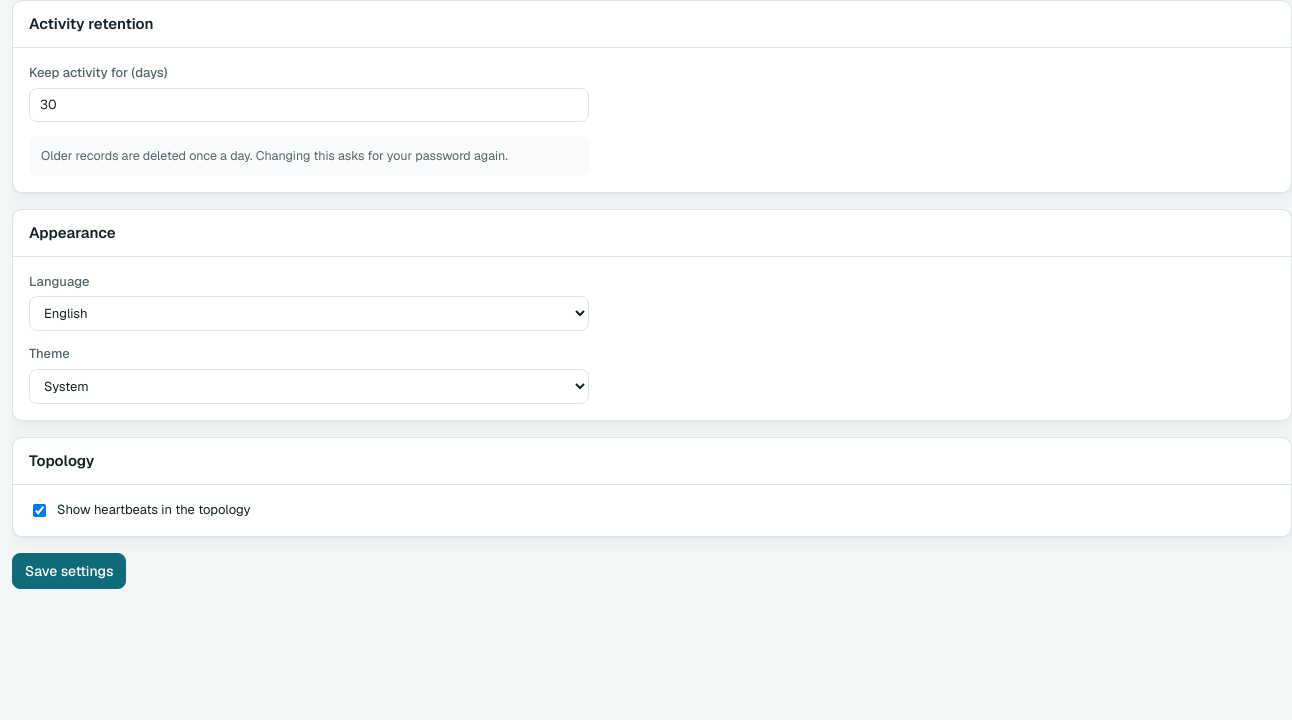
Test case: saves only heartbeatDisplay without sensitive authentication
Click the checkbox labelled "Show heartbeats in the topology". click: (40,510)
box: [33, 504, 46, 517]
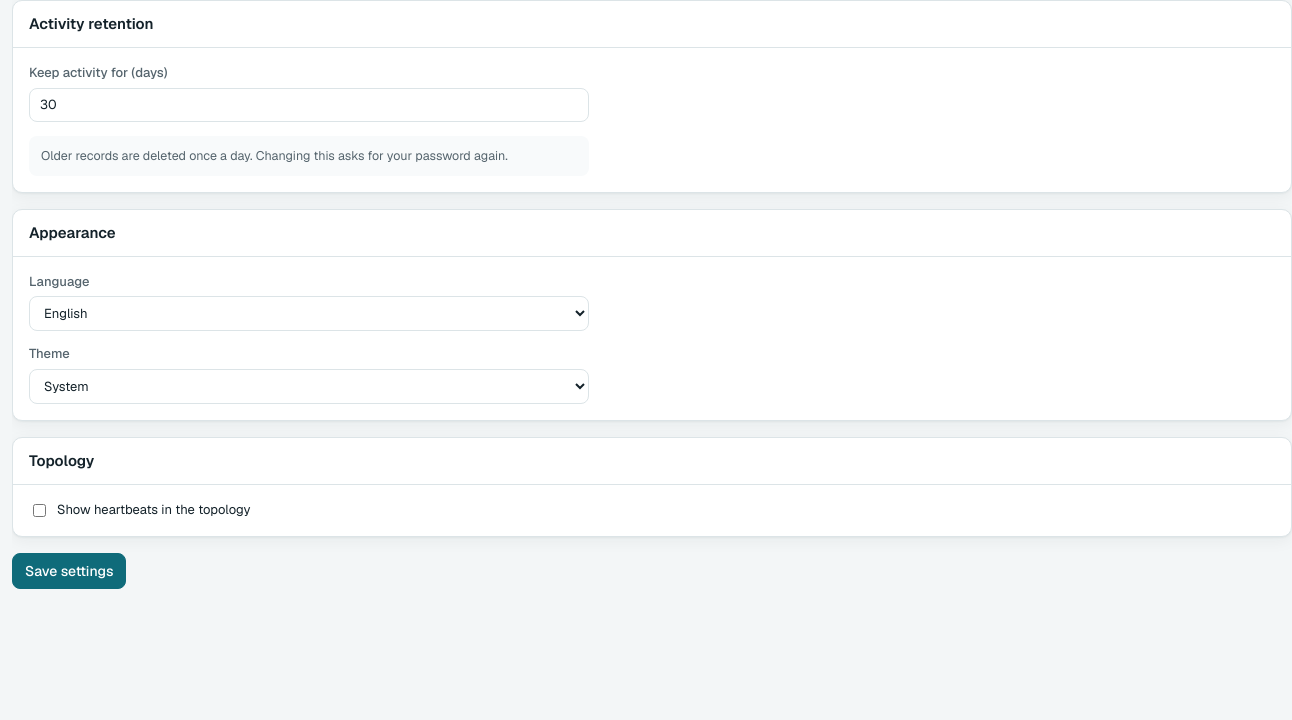
Click the button "Save settings". click: (69,571)
box: [12, 553, 126, 589]
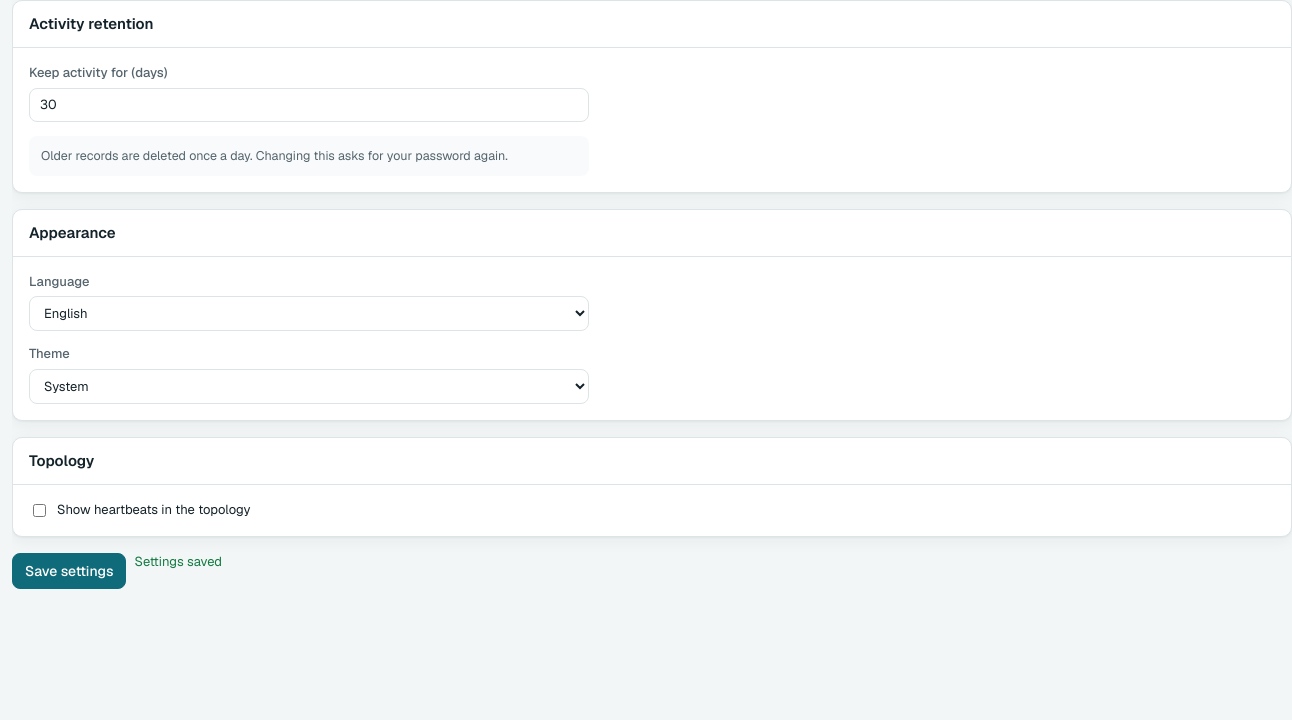
expect the text "Settings saved" is shown: met, box [134, 553, 222, 570]
